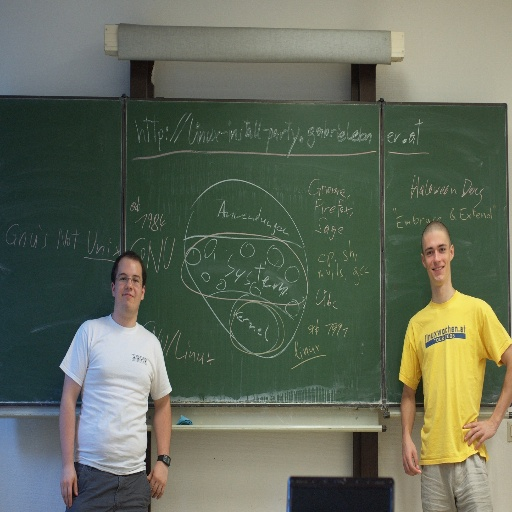hand: (461, 416, 496, 453), (146, 458, 170, 501), (59, 461, 79, 511), (402, 436, 421, 472)
